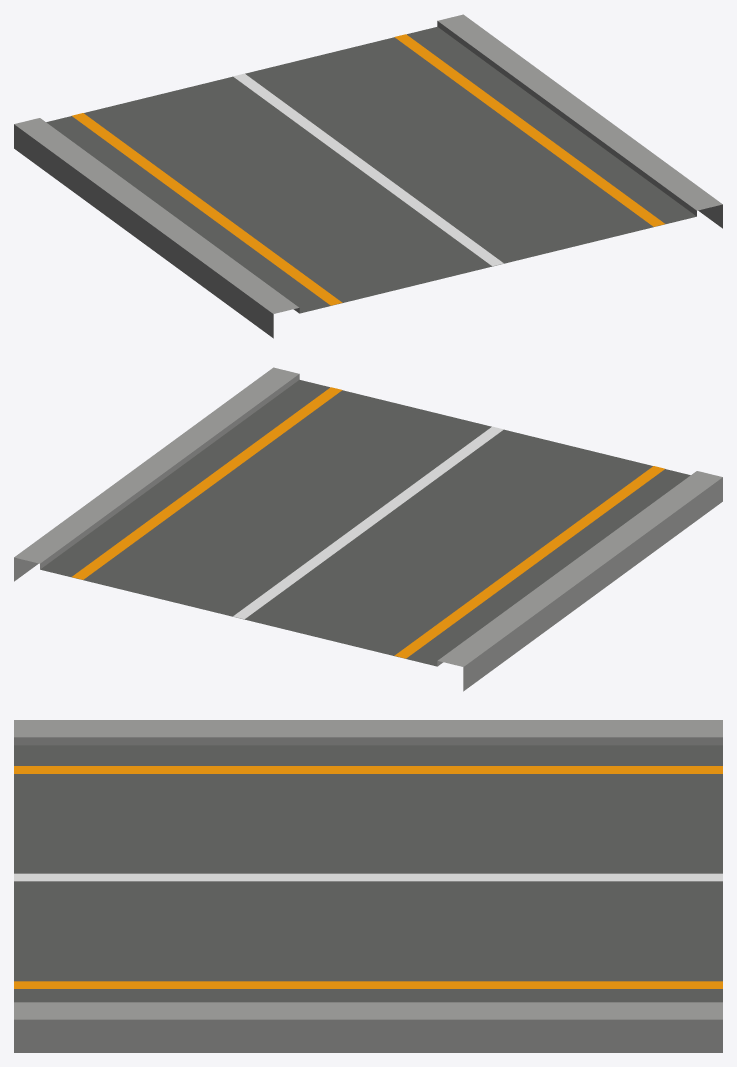
The model's file is Road_B_2.fbx.
3 views of the same model, one above another, from view 1: azimuth 30°, elevation 25°; view 2: azimuth 150°, elevation 25°; view 3: azimuth 270°, elevation 25° (orthographic). The views are drawn at different scales.
Visible parts, largest first — view 1: Road_B_2; view 2: Road_B_2; view 3: Road_B_2.
Boxes of the visible parts, bbox=[...] form: Road_B_2: bbox=[14, 14, 722, 338]; Road_B_2: bbox=[14, 367, 722, 691]; Road_B_2: bbox=[14, 720, 722, 1052].
Bounding box in the file's own units: 800 × 41.48 × 800.
